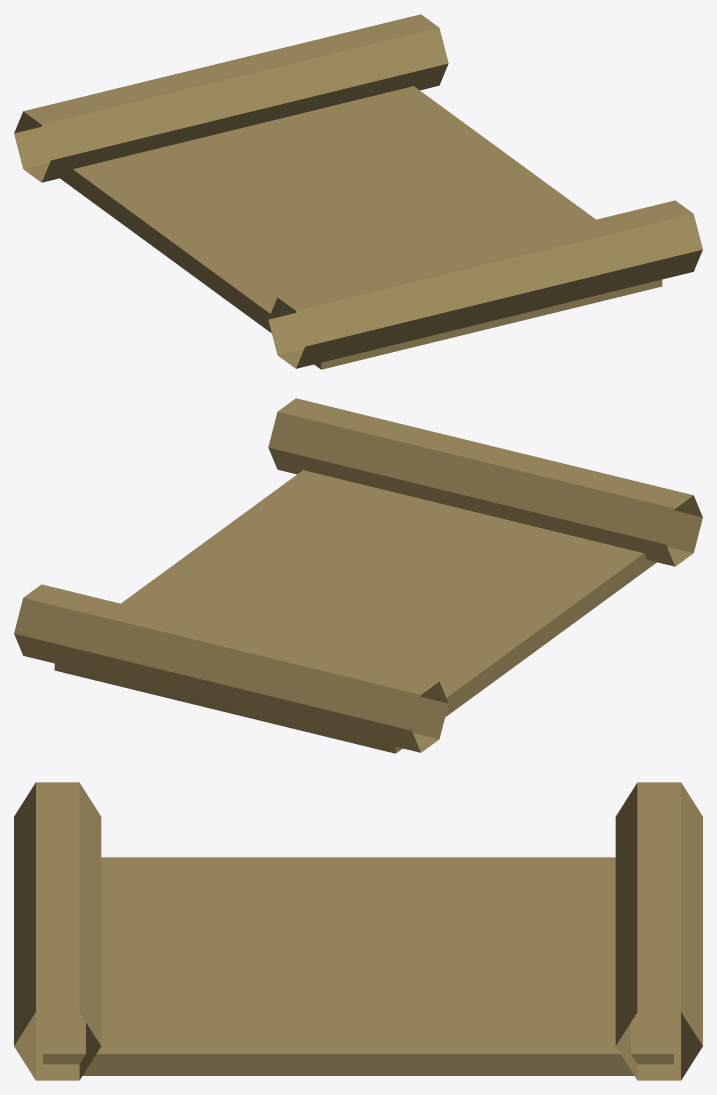
The model's file is C12_Pergaminho.obj.
The picture shows the model from 3 angles, top to bottom: view 1: azimuth 30°, elevation 25°; view 2: azimuth 150°, elevation 25°; view 3: azimuth 270°, elevation 25°; orthographic projection. The views are drawn at different scales.
Visible parts, largest first — view 1: C12_Pergaminho; view 2: C12_Pergaminho; view 3: C12_Pergaminho.
Part boxes in pixels (box(x1,y1,x2,y2)): C12_Pergaminho: box(14, 14, 702, 369); C12_Pergaminho: box(14, 398, 702, 753); C12_Pergaminho: box(14, 782, 702, 1080).
Size of the model in its own units: 0.56 by 0.0915 by 0.71.
